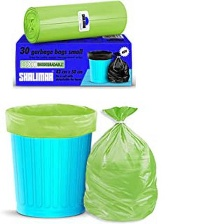plastic_bag: (79, 101, 176, 223), (15, 0, 134, 44), (2, 99, 102, 138), (103, 50, 133, 84), (83, 48, 116, 61)
